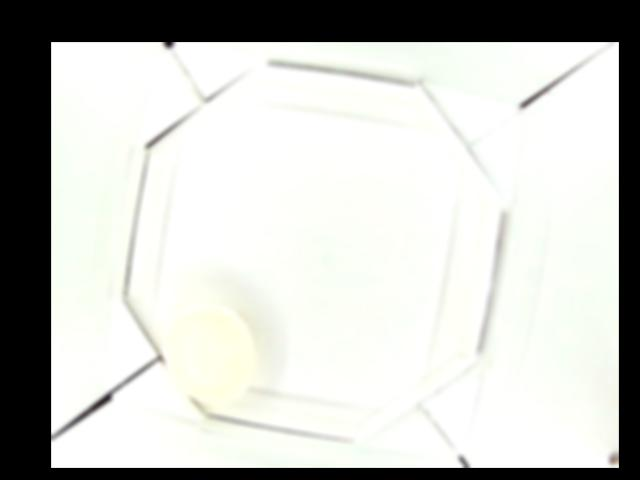Mooli: (160, 302, 256, 407)
